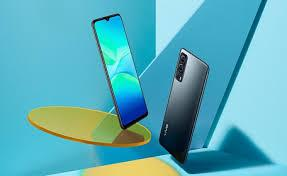Smartphone: (92, 16, 150, 139), (157, 54, 212, 162)
